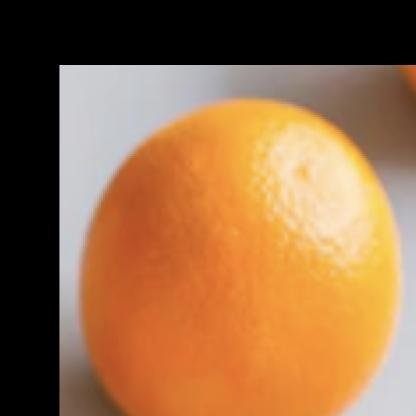fresh: (81, 104, 400, 416)
